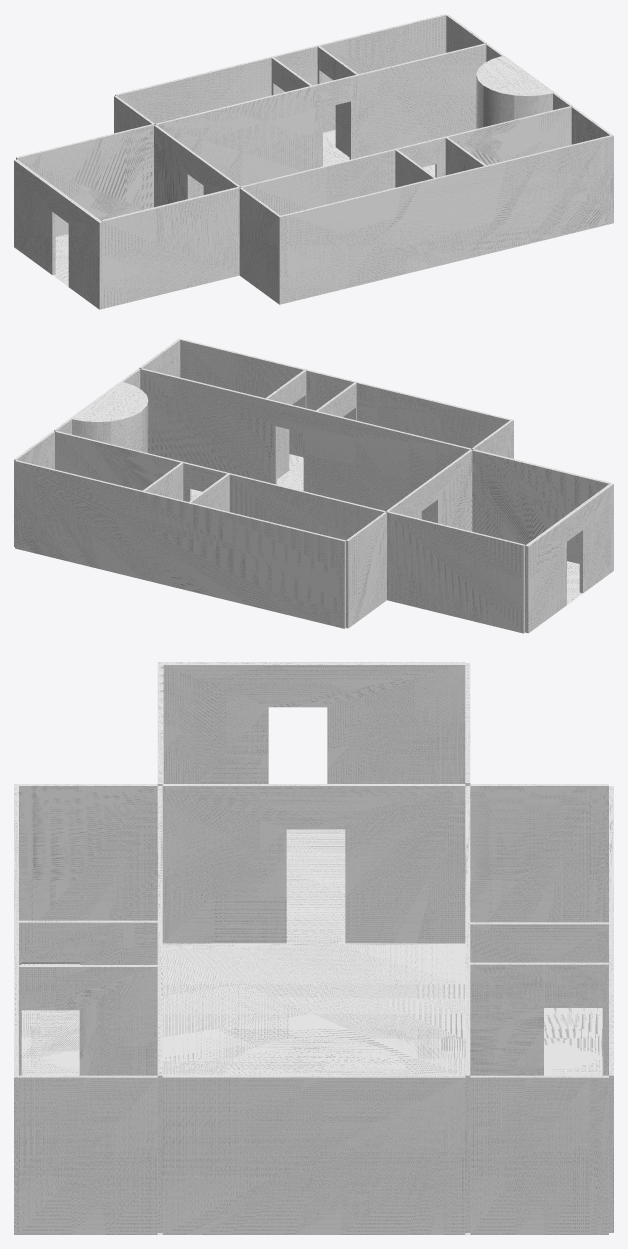
The model's file is level 0.dae.
The picture shows the model from 3 angles, top to bottom: view 1: azimuth 30°, elevation 25°; view 2: azimuth 150°, elevation 25°; view 3: azimuth 270°, elevation 25°; orthographic projection. The views are drawn at different scales.
Visible parts, largest first — view 1: SketchUp; view 2: SketchUp; view 3: SketchUp.
Part boxes in pixels (x1,y1,x2,y2): SketchUp: (14,14,613,309); SketchUp: (14,338,613,633); SketchUp: (14,662,613,1234).
Bounding box in the file's own units: 1117 × 680 × 198.
2 materials, 1 textured.
